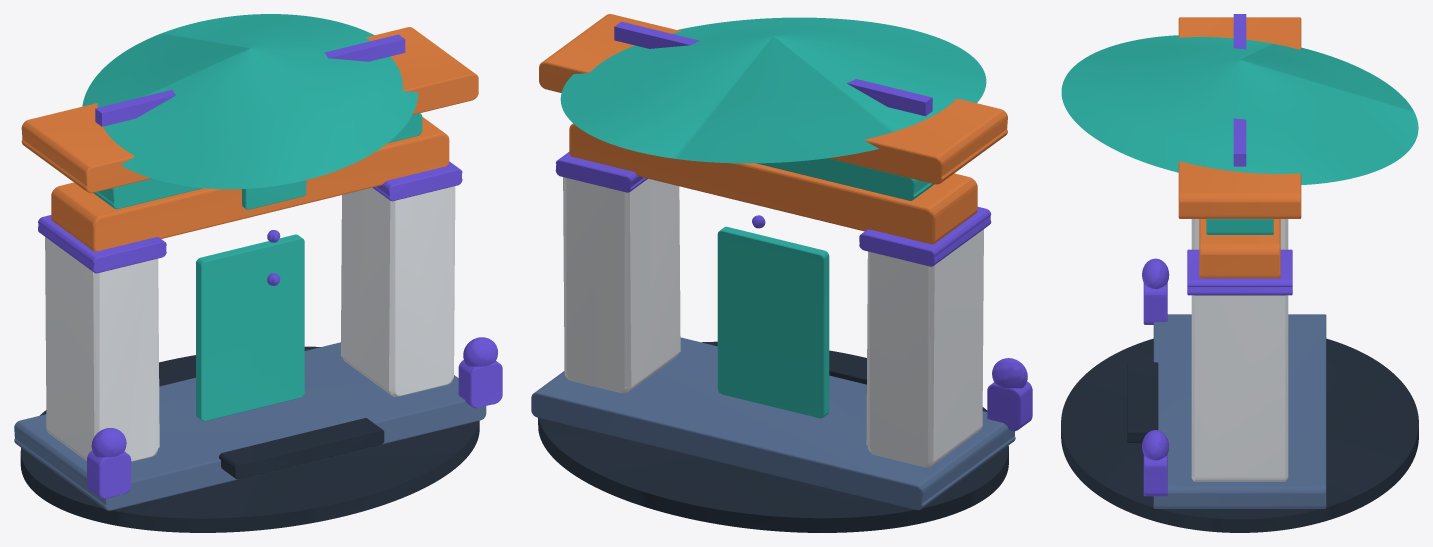
File: 0919_秦汉图鉴_长安城楼.glb
3 views of the same model, side by side, from view 1: azimuth 30°, elevation 25°; view 2: azimuth 150°, elevation 25°; view 3: azimuth 270°, elevation 25° (orthographic). The views are drawn at different scales.
Visible parts, largest first — view 1: card_0919; view 2: card_0919; view 3: card_0919.
Boxes of the visible parts, x1=… form: card_0919: x1=14, y1=14, x2=502, y2=532; card_0919: x1=531, y1=14, x2=1032, y2=532; card_0919: x1=1061, y1=14, x2=1418, y2=532.
Bounding box in the file's own units: 1.1 × 1 × 0.8609.
